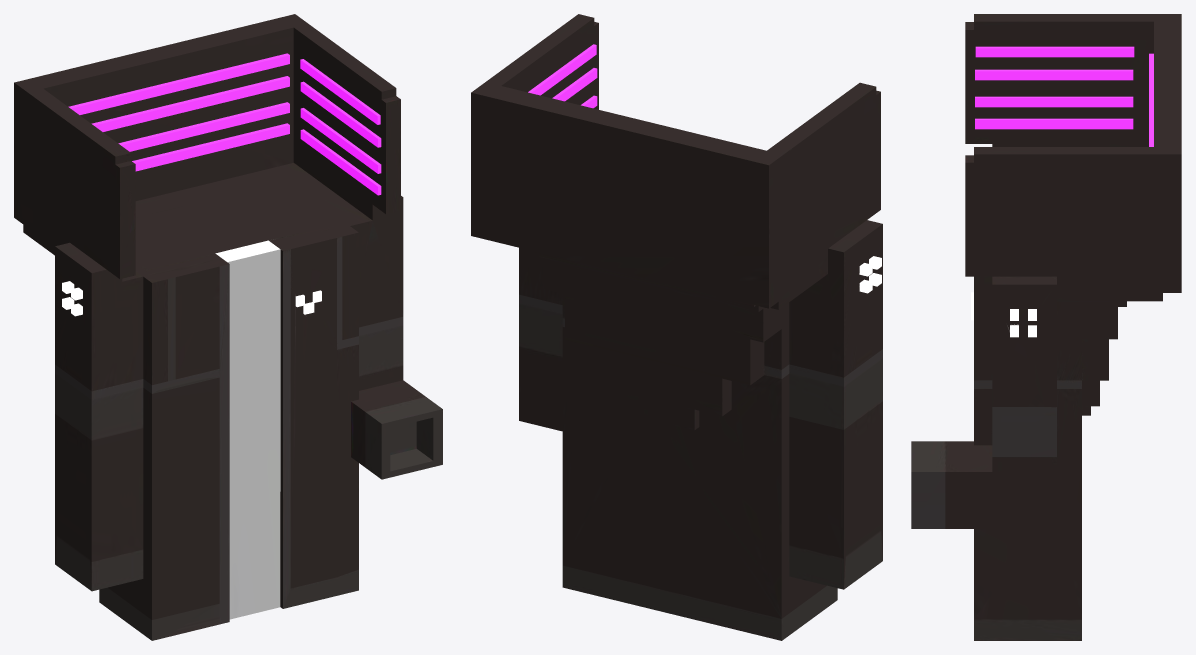
File: cyber_jacket_pink.glb
3 views of the same model, side by side, from view 1: azimuth 30°, elevation 25°; view 2: azimuth 150°, elevation 25°; view 3: azimuth 270°, elevation 25° (orthographic). The views are drawn at different scales.
Parts seen in each view (by area): view 1: cyber_jacket.001; view 2: cyber_jacket.001; view 3: cyber_jacket.001.
Boxes of the visible parts, left/top/right/bottom form: cyber_jacket.001: left=14, top=14, right=442, bottom=640; cyber_jacket.001: left=471, top=14, right=882, bottom=640; cyber_jacket.001: left=911, top=14, right=1181, bottom=640.
Bounding box in the file's own units: 4.3 × 6.2 × 3.01.
Materials: 2 (1 with a texture image).
